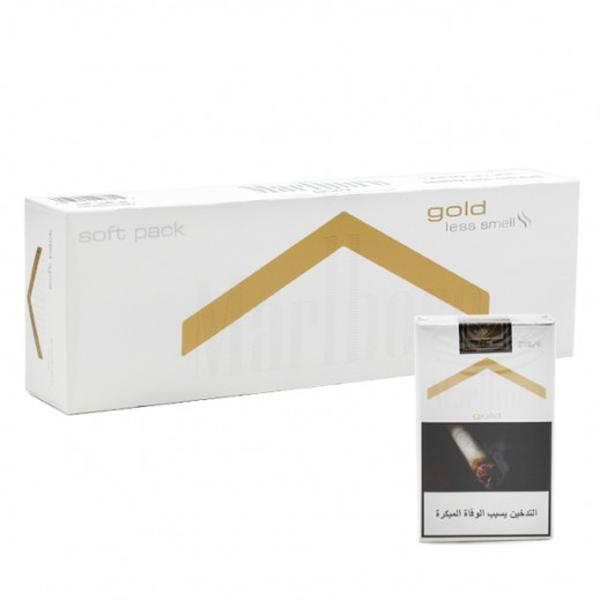marlboro_gold: (418, 324, 555, 542)
